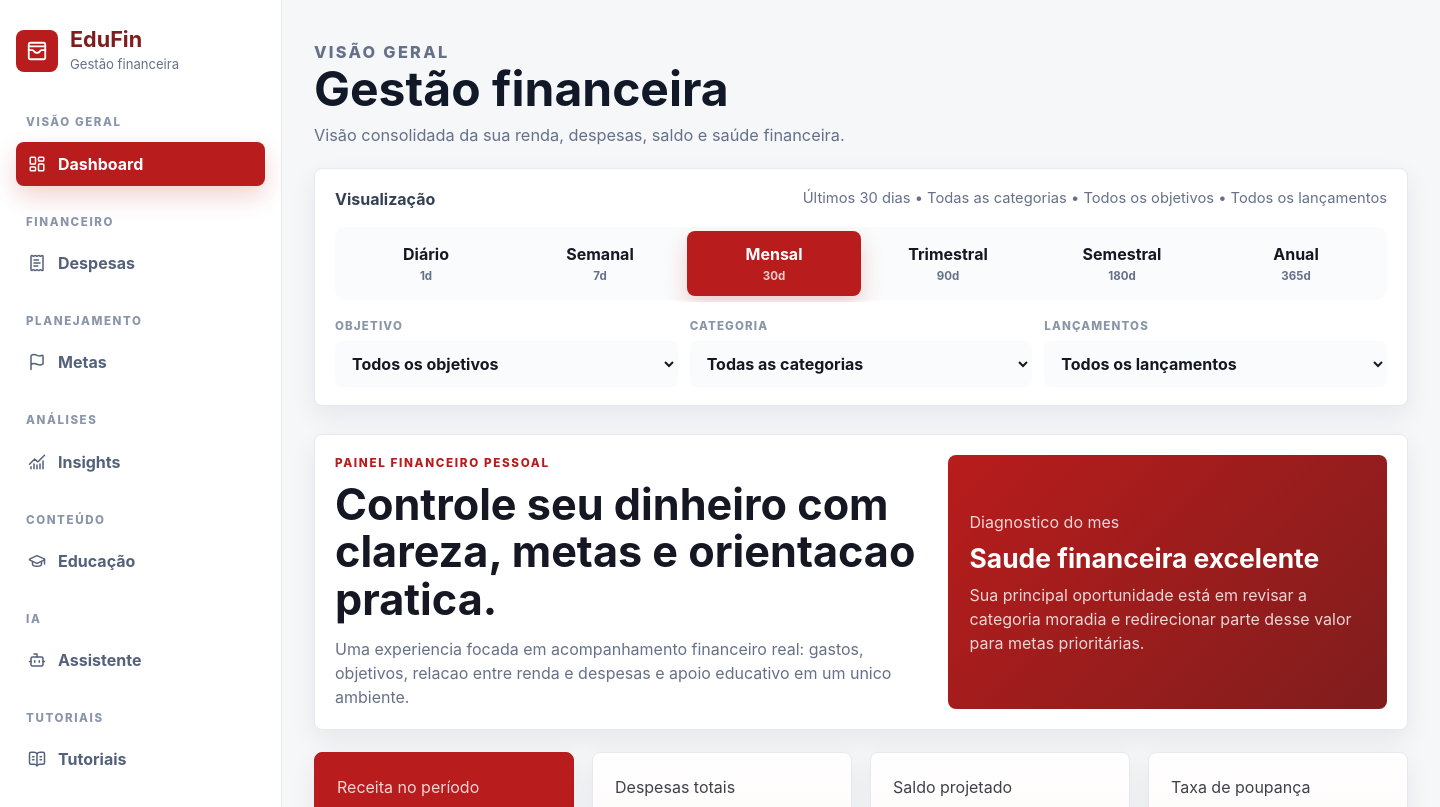
Scenario: App › renders the dashboard and sends a local chatbot message
Check: the heading "Gestão financeira" is shown, box [314, 60, 729, 118]
Check: the text "Sua principal oportunidade" is shown, box [970, 585, 1352, 653]
Click the button "Assistente". click: (140, 660)
box: [16, 638, 265, 682]
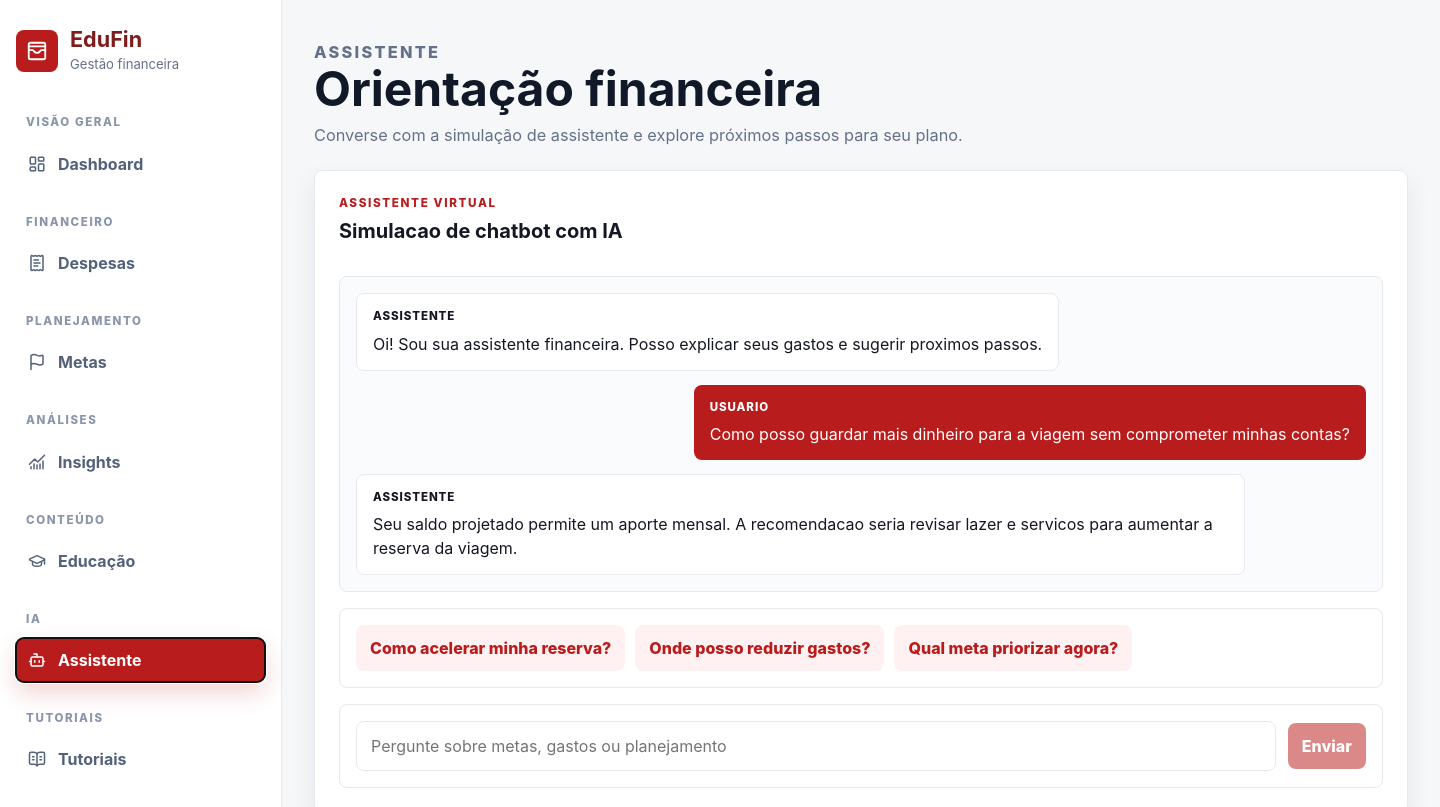
Type "Como economizar mais?" into the field named "pergunta para a assistente financeira". click: (816, 746)
box: [356, 721, 1276, 771]
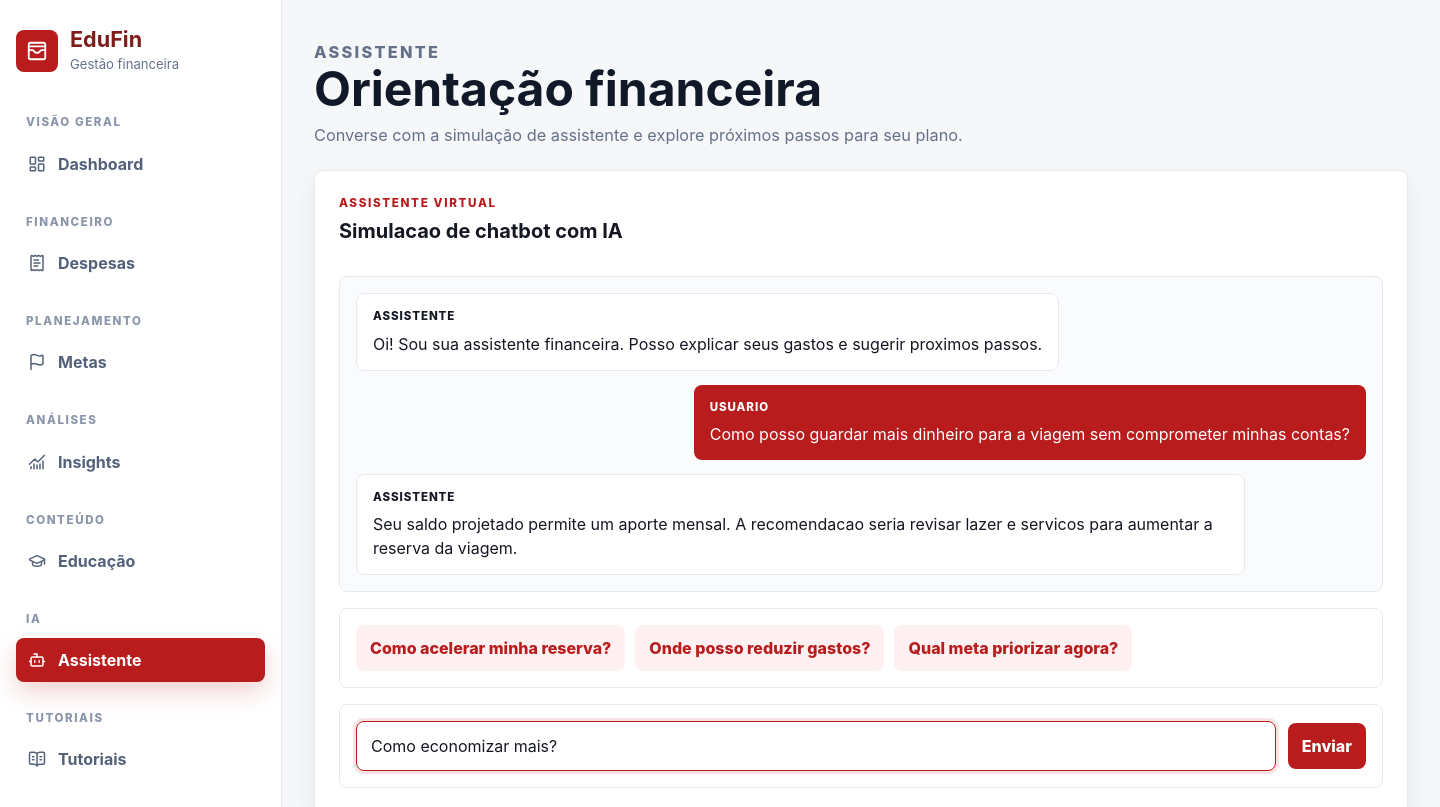
Click the button "Enviar". click: (1327, 746)
box: [1288, 723, 1366, 769]
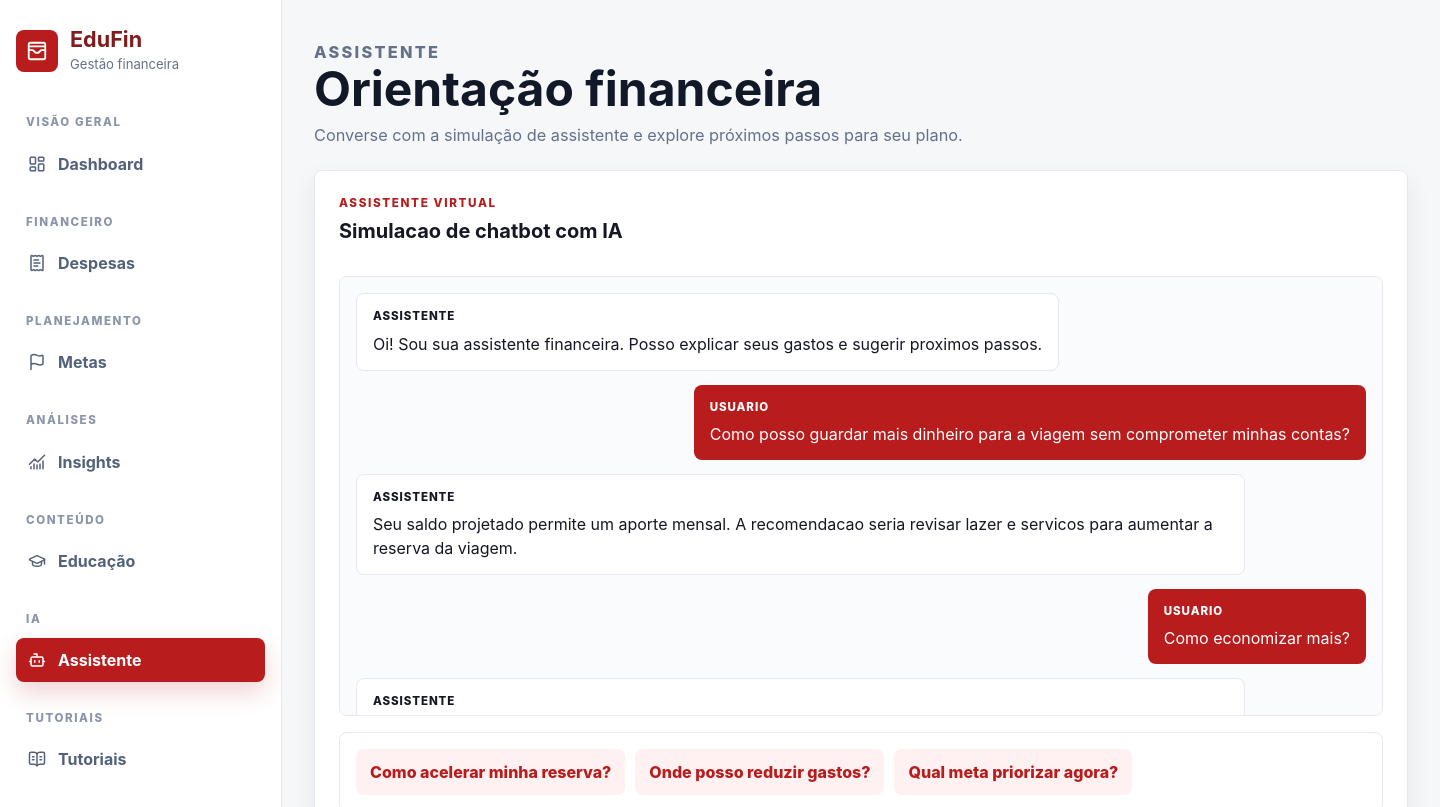
Check: the text "Como economizar mais?" is shown, box [1164, 626, 1350, 650]
